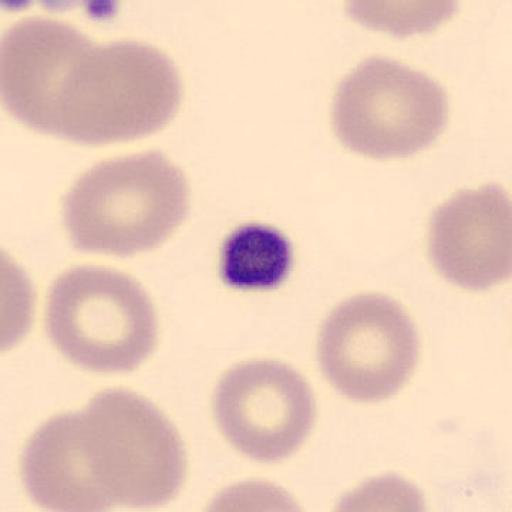Platelet: (212, 222, 305, 295), (81, 0, 131, 27), (42, 2, 80, 18), (0, 0, 32, 18)
RBC: (60, 148, 193, 260), (70, 382, 188, 508), (56, 35, 186, 147), (329, 52, 452, 164), (0, 14, 112, 134), (44, 261, 158, 375), (312, 288, 422, 406), (206, 354, 319, 465), (17, 404, 135, 510), (424, 179, 510, 295), (340, 0, 465, 41), (328, 468, 430, 511), (0, 245, 37, 357), (205, 474, 303, 511)
